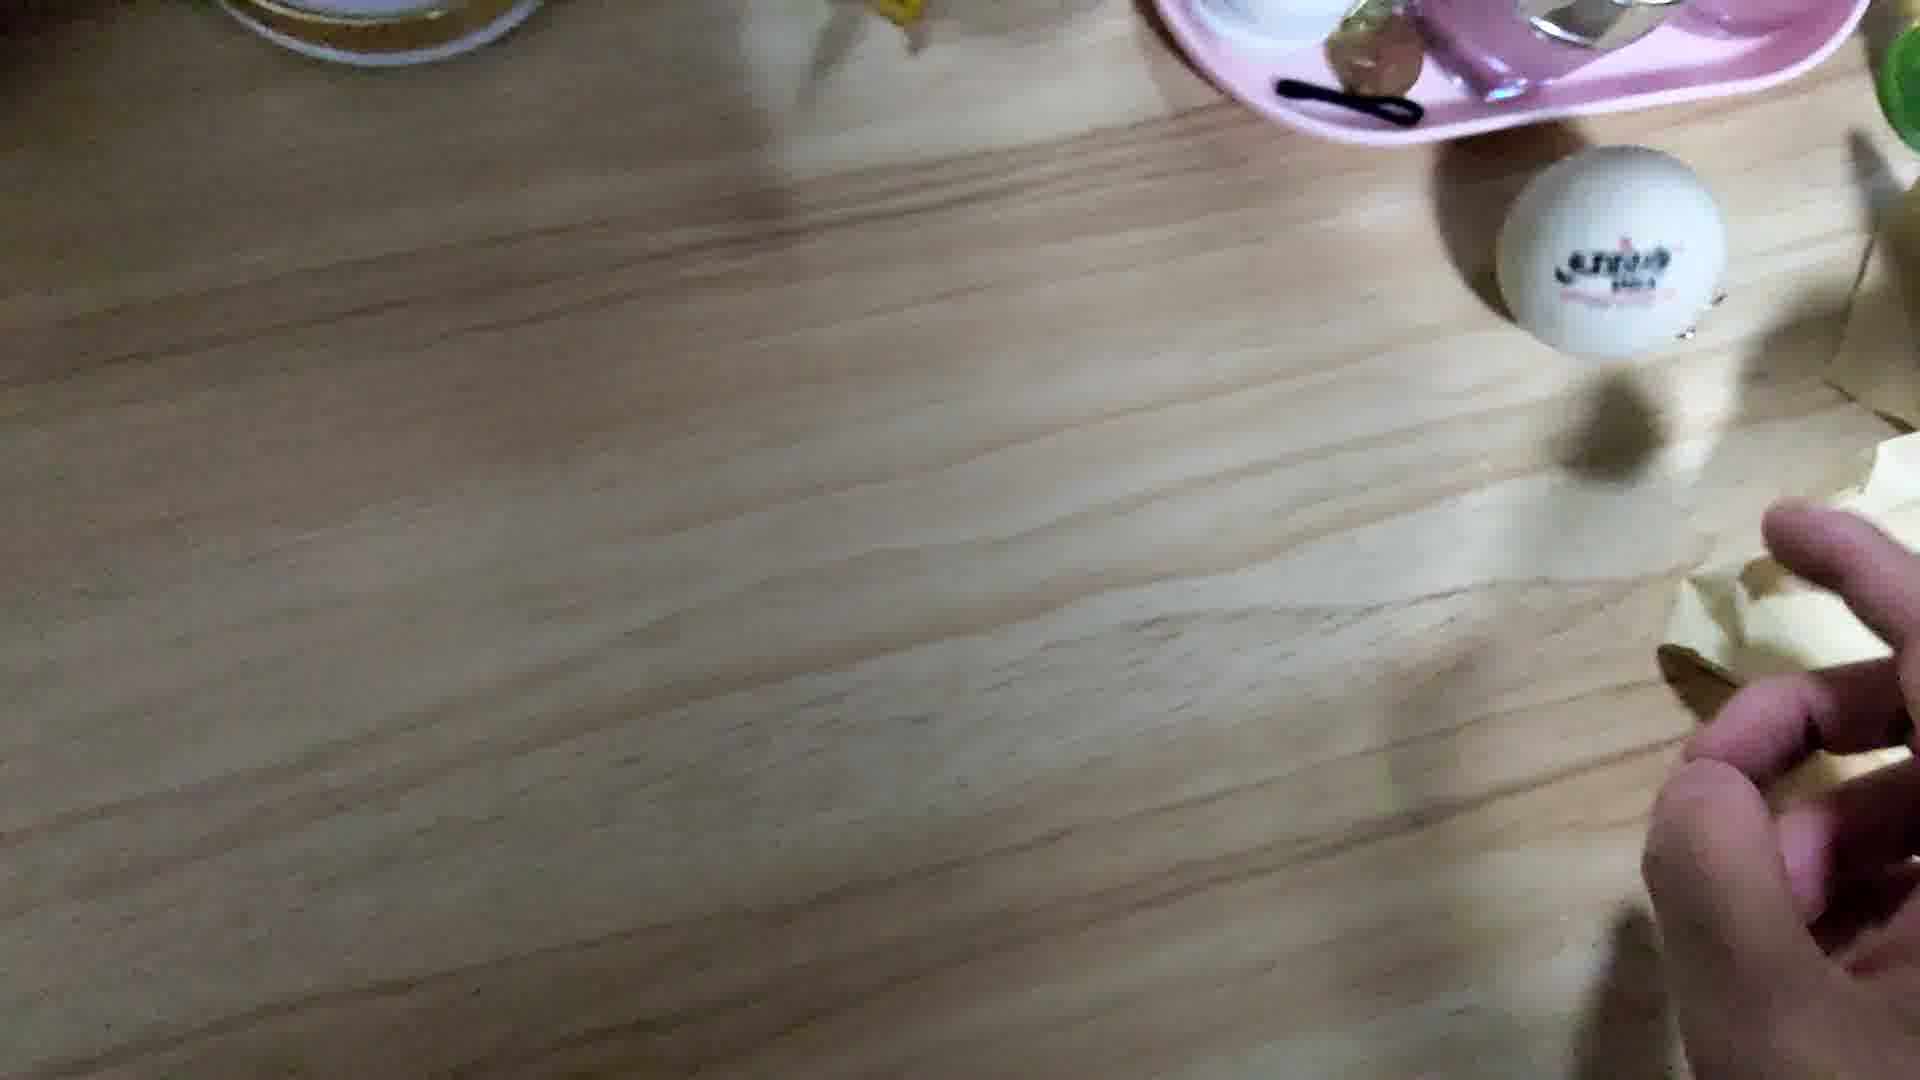Ball: (1499, 150, 1722, 363)
